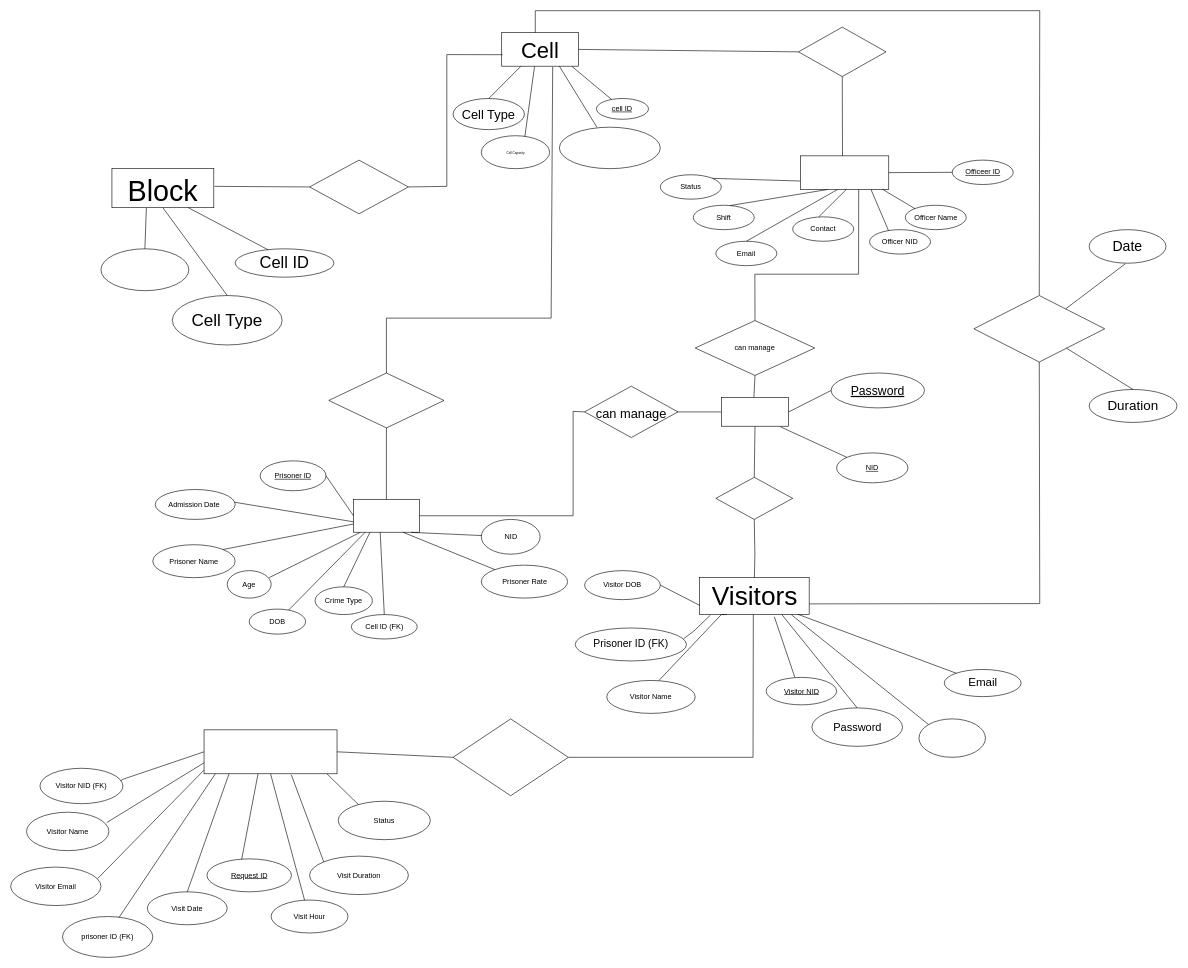
Image size: 1188x968. Some labels were removed from this diagram. The box of each missing label's shape, as (x1, y1, x2, y2) in pixels:
Admin: (721, 397, 789, 426)
belongs to: (309, 160, 408, 214)
Block Name: (100, 248, 189, 291)
Block Name (FK): (559, 127, 660, 169)
in closed: (328, 372, 444, 428)
monitors: (798, 27, 886, 77)
Officer: (800, 155, 889, 189)
Prisoner: (353, 499, 419, 532)
Relation: (918, 718, 985, 757)
sends: (452, 718, 568, 796)
views: (715, 477, 793, 519)
Visit Requests: (203, 729, 337, 774)
visits: (973, 295, 1105, 362)
